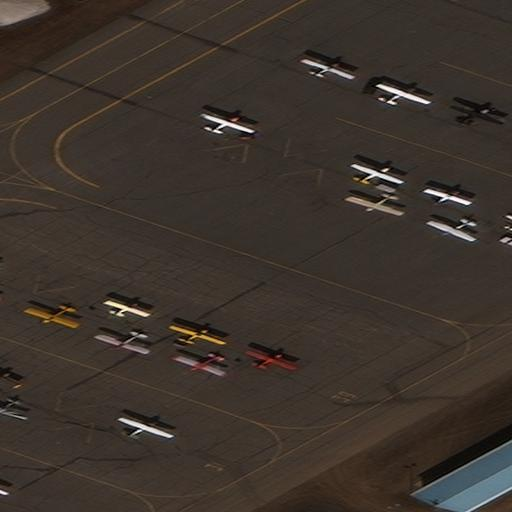Small Civil Transport: (343, 194, 400, 217), (93, 332, 146, 355), (173, 354, 223, 377), (23, 306, 75, 328), (172, 322, 226, 343), (120, 416, 173, 437), (202, 112, 255, 133), (378, 82, 431, 103), (425, 219, 473, 242), (351, 163, 405, 183), (304, 57, 356, 77), (248, 350, 299, 368), (451, 105, 502, 123), (426, 187, 472, 204), (107, 300, 151, 315), (0, 397, 25, 420), (0, 369, 24, 385)
